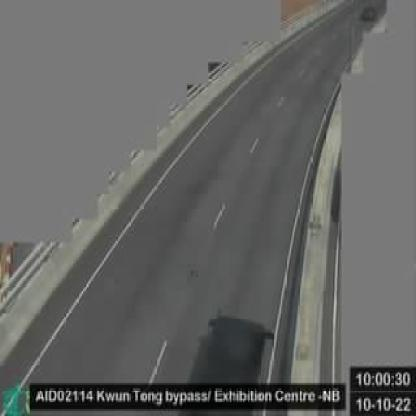Car: (186, 316, 260, 380)
